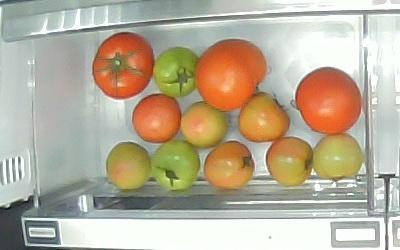tomato: (196, 39, 268, 111), (292, 66, 363, 135), (91, 32, 154, 99), (238, 92, 290, 143), (204, 140, 255, 191), (131, 93, 181, 144), (312, 134, 364, 182), (151, 142, 200, 192), (266, 137, 314, 186), (153, 46, 198, 97), (105, 142, 151, 190), (181, 102, 230, 147)
